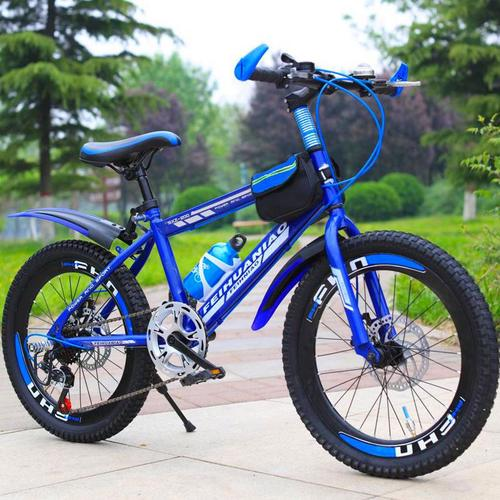单车: (6, 51, 500, 480)
